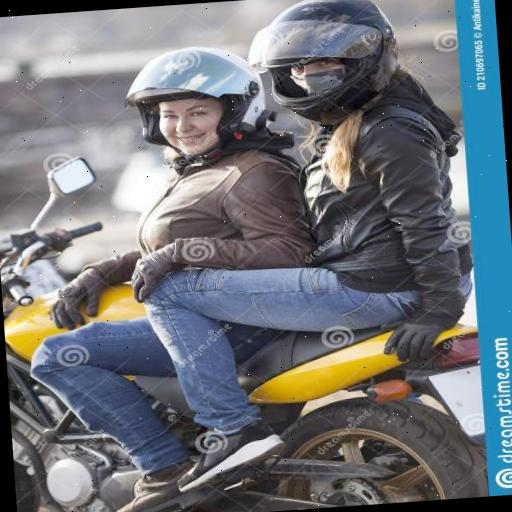helmet: (4, 31, 294, 506)
